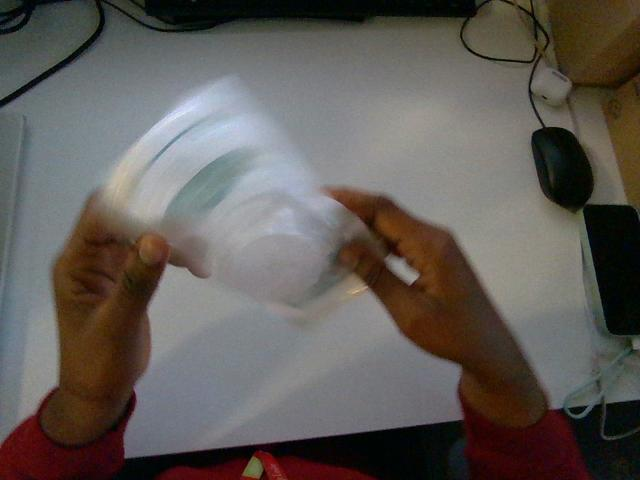gallipot: (102, 77, 379, 317)
